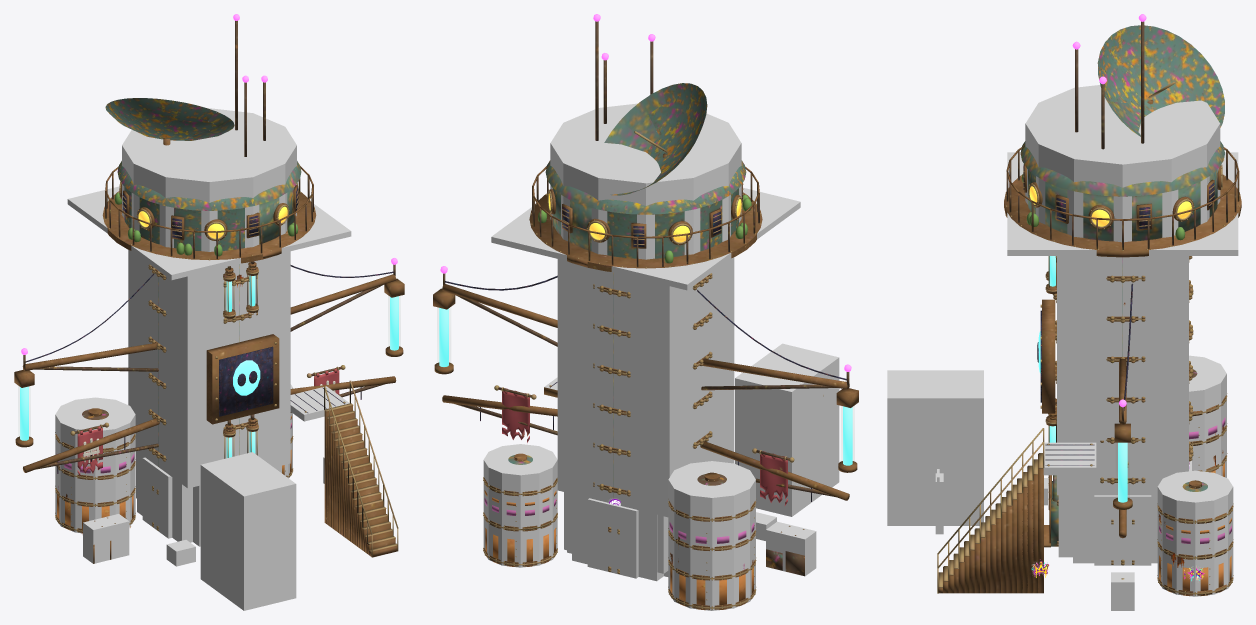
File: signal_tower.glb
3 views of the same model, side by side, from view 1: azimuth 30°, elevation 25°; view 2: azimuth 150°, elevation 25°; view 3: azimuth 270°, elevation 25° (orthographic). The views are drawn at different scales.
Visible parts, largest first — view 1: col_bld_signal_tower_T_core_14, signal_tower_body_b, signal_tower_body_a, col_bld_POST_streetlamp_cyan_i.002, col_bld_signal_tower_drum, signal_tower_plain, col_bld_signal_tower_T_baseL, col_deck_signal_tower_drum, col_bld_CRATE_stack_i.007, col_deck_signal_tower_land, col_bld_signal_tower_T_core_9, col_bld_signal_tower_T_core_8 (+2 smaller); view 2: col_bld_signal_tower_T_core_14, signal_tower_body_a, signal_tower_body_b, col_bld_signal_tower_drum, col_bld_POST_streetlamp_cyan_i.002, col_bld_signal_tower_T_baseL, col_bld_signal_tower_T_baseR, col_deck_signal_tower_drum, signal_tower_plain, col_bld_signal_tower_T_core_4, col_bld_CRATE_stack_i.007, col_bld_signal_tower_T_core_3 (+3 smaller); view 3: signal_tower_body_b, col_bld_signal_tower_T_core_14, col_bld_signal_tower_drum, col_bld_POST_streetlamp_cyan_i.002, signal_tower_body_a, col_bld_signal_tower_T_baseR, col_deck_signal_tower_drum, climb_signal_tower_ladder_0, col_bld_signal_tower_T_baseL, signal_tower_plain, col_bld_signal_tower_T_core_0, col_bld_signal_tower_T_core_13 (+6 smaller).
Part boxes in pixels (x1,y1,x2,y2): col_bld_signal_tower_T_core_14: (128,250,290,488); signal_tower_body_b: (102,21,404,557); signal_tower_body_a: (14,98,262,563); col_bld_POST_streetlamp_cyan_i.002: (200,452,296,610); col_bld_signal_tower_drum: (122,108,296,251); signal_tower_plain: (20,14,398,473); col_bld_signal_tower_T_baseL: (55,397,135,533); col_deck_signal_tower_drum: (67,186,351,280); col_bld_CRATE_stack_i.007: (83,514,129,563); col_deck_signal_tower_land: (290,386,349,421); col_bld_signal_tower_T_core_9: (172,477,192,542); col_bld_signal_tower_T_core_8: (154,466,172,538); col_bld_signal_tower_T_core_14: (557,257,734,517); signal_tower_body_a: (587,83,858,610); signal_tower_body_b: (433,21,762,573); col_bld_signal_tower_drum: (550,103,741,259); col_bld_POST_streetlamp_cyan_i.002: (735,343,839,516); col_bld_signal_tower_T_baseL: (668,461,755,610); col_bld_signal_tower_T_baseR: (483,444,557,567); col_deck_signal_tower_drum: (491,187,800,290); signal_tower_plain: (439,14,852,505); col_bld_signal_tower_T_core_4: (609,504,638,578); col_bld_CRATE_stack_i.007: (766,521,816,576); col_bld_signal_tower_T_core_3: (587,498,615,571); signal_tower_body_b: (937,21,1241,596); col_bld_signal_tower_T_core_14: (1057,256,1188,495); col_bld_signal_tower_drum: (1025,85,1220,242); col_bld_POST_streetlamp_cyan_i.002: (887,370,983,525); signal_tower_body_a: (1005,25,1239,498); col_bld_signal_tower_T_baseR: (1157,470,1233,596); col_deck_signal_tower_drum: (1007,152,1238,255); climb_signal_tower_ladder_0: (1086,256,1106,440); col_bld_signal_tower_T_baseL: (1189,355,1226,477); signal_tower_plain: (1023,14,1214,581); col_bld_signal_tower_T_core_0: (1119,495,1151,565); col_bld_signal_tower_T_core_13: (1094,495,1125,565).
Size of the model in its own units: 14.99 by 18.22 by 10.74.
21 materials, 8 textured.
